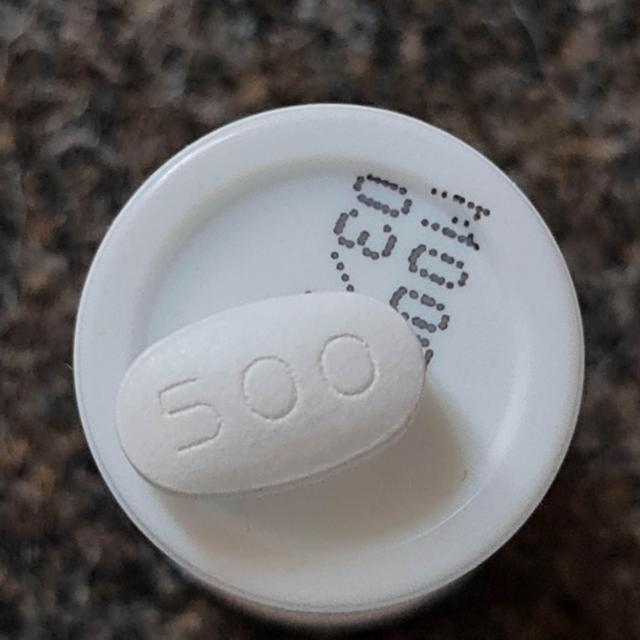pill: (119, 296, 424, 495)
